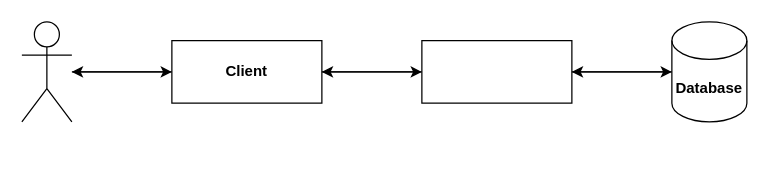
This 769x170 diagram has some shape labels left out. Each missing label, with the box of its shape:
Middleware: (421, 39, 572, 103)
User: (21, 21, 72, 122)
